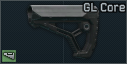FAB Defense GL-Core buttstock: (0, 0, 127, 64)
